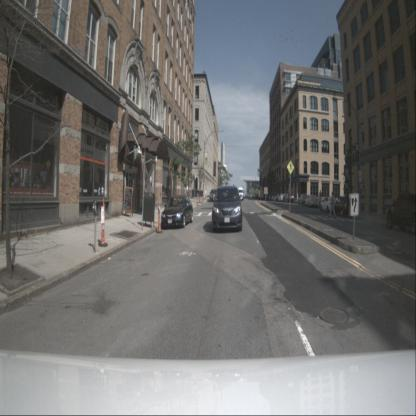cone: (98, 196, 108, 248), (155, 200, 162, 234), (196, 192, 199, 206), (204, 190, 207, 200)
